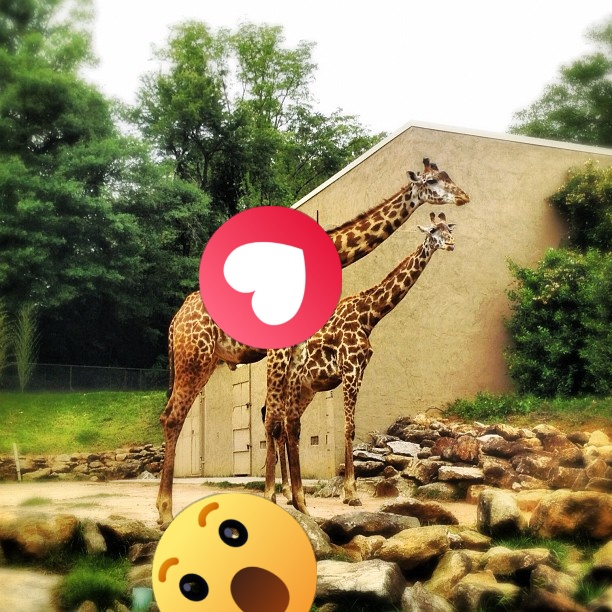love: (199, 206, 342, 349)
wow: (152, 493, 317, 612)
